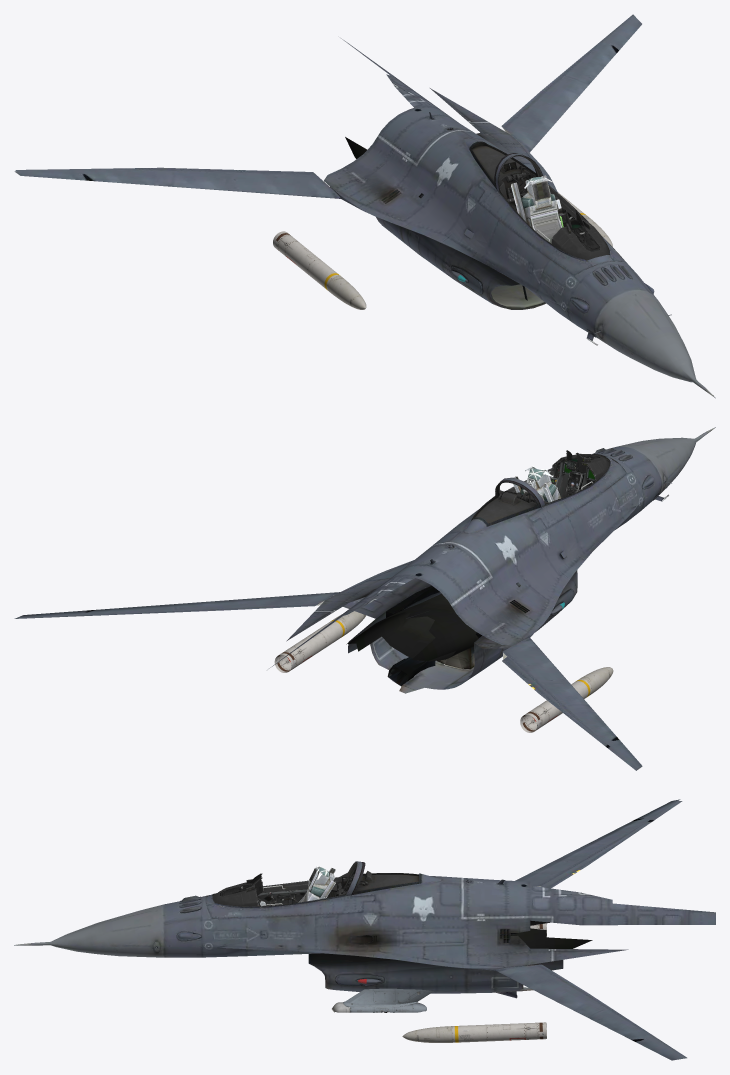
The picture shows the model from 3 angles, top to bottom: view 1: azimuth 30°, elevation 25°; view 2: azimuth 150°, elevation 25°; view 3: azimuth 270°, elevation 25°; orthographic projection. The views are drawn at different scales.
Parts seen in each view (by area): view 1: Object_24, Object_17, Object_20, Object_6; view 2: Object_24, Object_17, Object_20, Object_6; view 3: Object_24, Object_17, Object_20, Object_4, Object_6, Object_3.
Part boxes in pixels (x1,y1,x2,y2): Object_24: (14, 14, 715, 398); Object_17: (470, 141, 624, 273); Object_20: (273, 192, 612, 309); Object_6: (511, 176, 563, 243); Object_24: (14, 427, 715, 770); Object_17: (472, 450, 625, 524); Object_20: (274, 611, 613, 732); Object_6: (513, 465, 560, 502); Object_24: (14, 799, 715, 1060); Object_17: (206, 861, 419, 918); Object_20: (402, 923, 546, 1042); Object_4: (343, 988, 433, 1006); Object_6: (260, 866, 335, 906); Object_3: (332, 1002, 426, 1012).
Size of the model in its own units: 9.27 by 2.21 by 10.6.
Materials: 8 (6 with a texture image).
